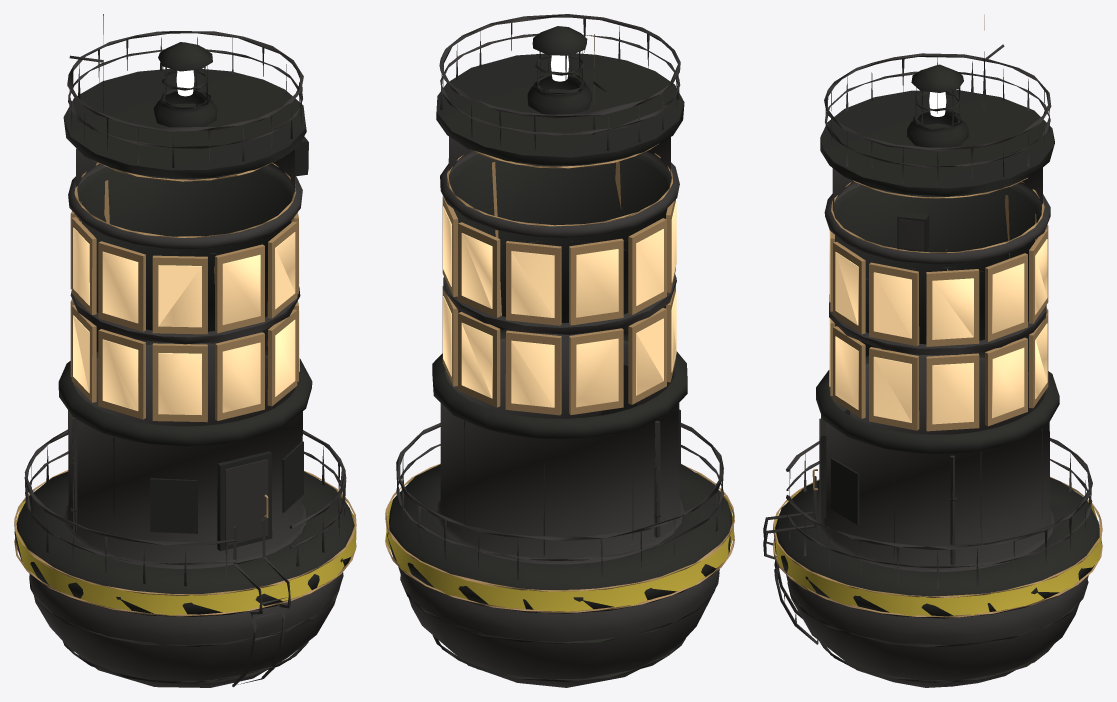
Rendered from GedenkbojeFern.aaead197f2.glb.
3 views of the same model, side by side, from view 1: azimuth 30°, elevation 25°; view 2: azimuth 150°, elevation 25°; view 3: azimuth 270°, elevation 25° (orthographic). The views are drawn at different scales.
Parts seen in each view (by area): view 1: Gedenkboje_lack, Gedenkboje_glow_Tafel hinterleuchtet, Gedenkboje_metall, Gedenkboje_warn; view 2: Gedenkboje_lack, Gedenkboje_glow_Tafel hinterleuchtet, Gedenkboje_metall, Gedenkboje_warn; view 3: Gedenkboje_lack, Gedenkboje_glow_Tafel hinterleuchtet, Gedenkboje_metall, Gedenkboje_warn.
Part boxes in pixels (box(x1,y1,x2,y2)): Gedenkboje_lack: box(14, 31, 354, 687); Gedenkboje_glow_Tafel hinterleuchtet: box(73, 221, 299, 414); Gedenkboje_metall: box(14, 14, 356, 616); Gedenkboje_warn: box(14, 492, 356, 615); Gedenkboje_lack: box(387, 14, 732, 687); Gedenkboje_glow_Tafel hinterleuchtet: box(443, 201, 676, 407); Gedenkboje_metall: box(385, 34, 734, 612); Gedenkboje_warn: box(385, 473, 734, 611); Gedenkboje_lack: box(763, 44, 1101, 687); Gedenkboje_glow_Tafel hinterleuchtet: box(829, 230, 1047, 424); Gedenkboje_metall: box(773, 14, 1102, 617); Gedenkboje_warn: box(774, 490, 1101, 615).
Bounding box in the file's own units: 4.57 × 9.67 × 4.7.
